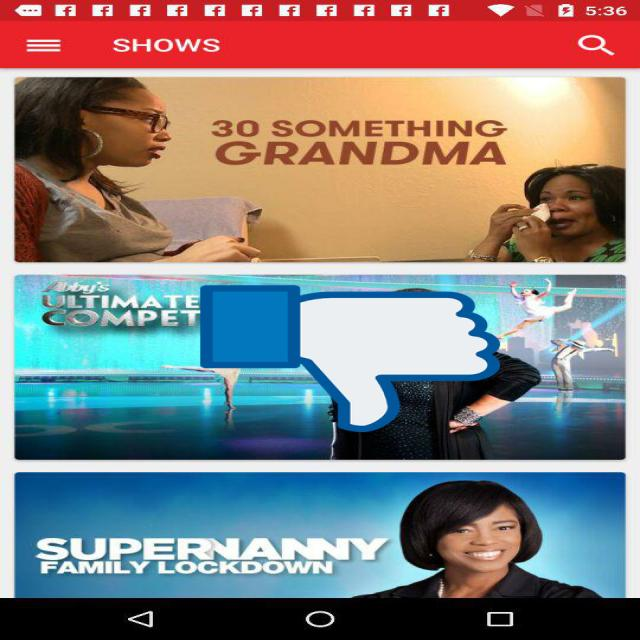obstruction: (200, 282, 500, 435)
